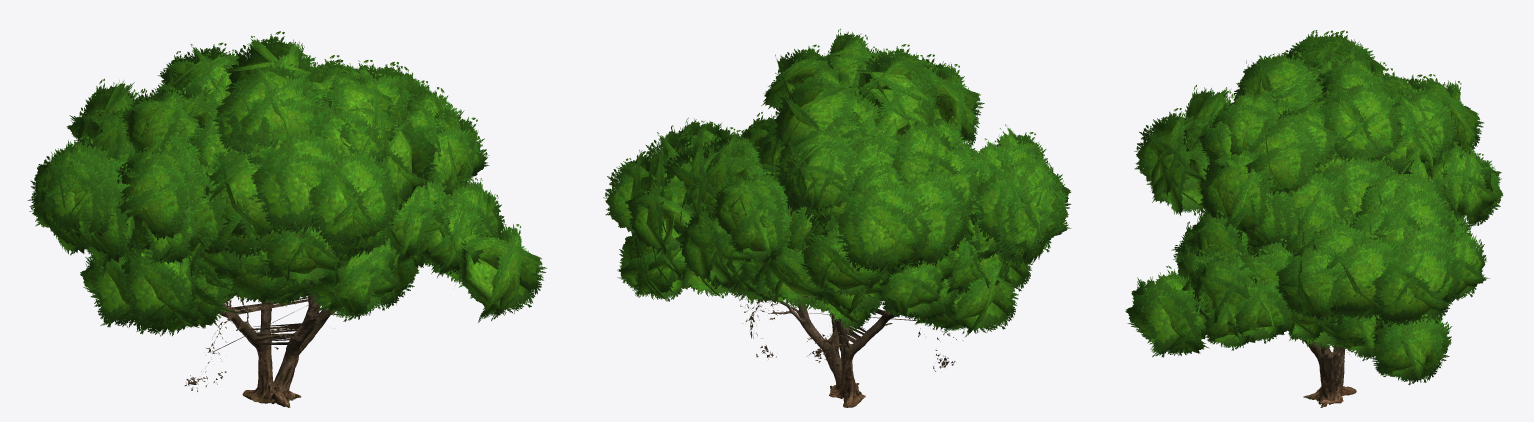
File: lush_tree_1k.glb
3 views of the same model, side by side, from view 1: azimuth 30°, elevation 25°; view 2: azimuth 150°, elevation 25°; view 3: azimuth 270°, elevation 25° (orthographic). The views are drawn at different scales.
Parts seen in each view (by area): view 1: lush_tree; view 2: lush_tree; view 3: lush_tree.
Boxes of the visible parts, x1=… form: lush_tree: x1=27, y1=31, x2=546, y2=407; lush_tree: x1=603, y1=28, x2=1071, y2=407; lush_tree: x1=1125, y1=30, x2=1503, y2=407.
Bounding box in the file's own units: 19.03 × 14.02 × 15.13.
Materials: 2 (2 with a texture image).
